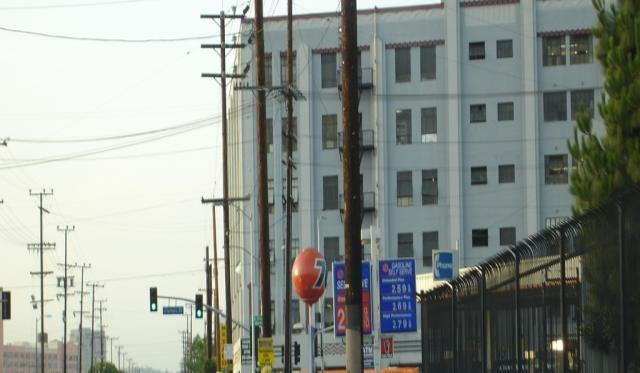green_light: (196, 295, 203, 318), (150, 287, 156, 312)
